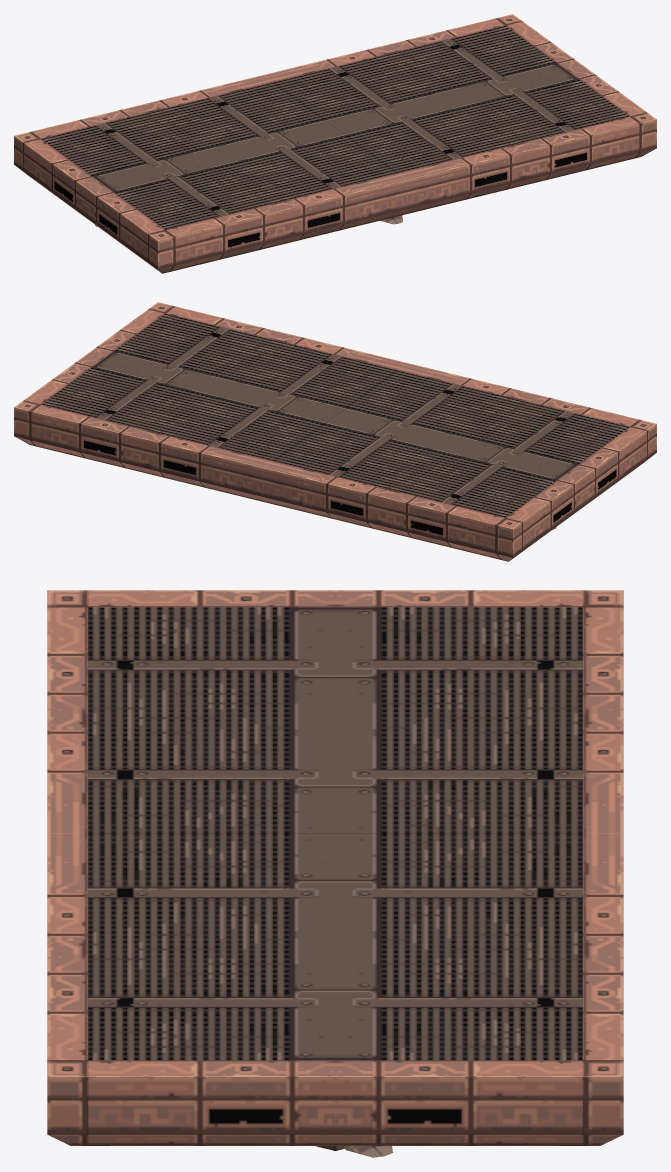
File: FloatingPlatform_2x4_Stone.fbx
3 views of the same model, one above another, from view 1: azimuth 30°, elevation 25°; view 2: azimuth 150°, elevation 25°; view 3: azimuth 270°, elevation 25° (orthographic). The views are drawn at different scales.
Parts seen in each view (by area): view 1: Platform; view 2: Platform; view 3: Platform.
Boxes of the visible parts, <box> form: Platform: <box>14,14,656,273</box>; Platform: <box>14,302,656,561</box>; Platform: <box>47,590,623,1150</box>.
Bounding box in the file's own units: 100 × 11.5 × 50.
